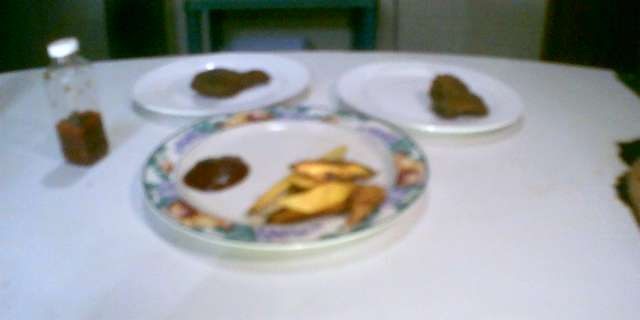chicken: (412, 63, 497, 129), (187, 63, 274, 102)
ketchup_bottle: (35, 31, 115, 171)
ketchup_portion: (182, 148, 252, 194)
potatoe_fries: (252, 145, 390, 236)
